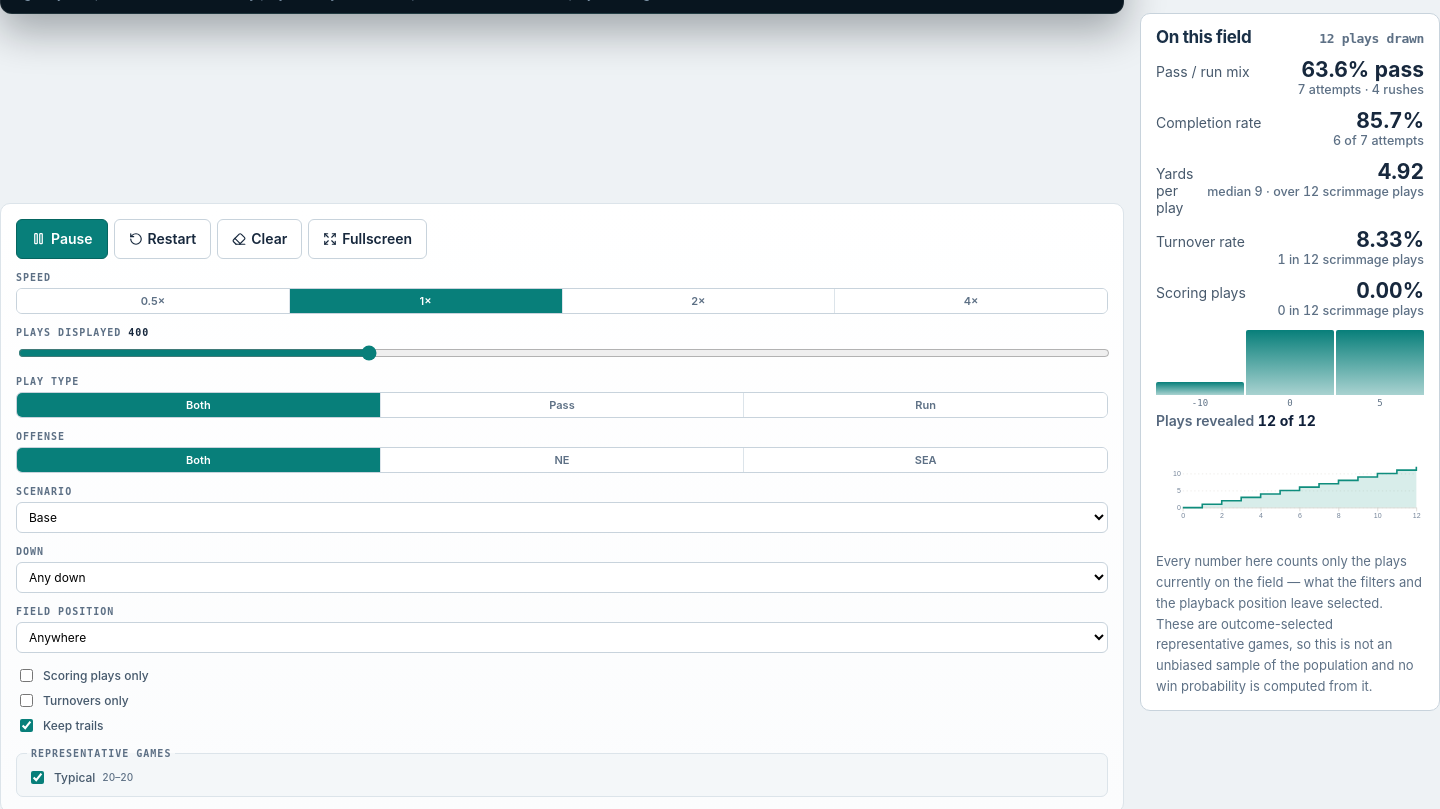
Test: SimulationPopulation › moves its statistics when the play-type filter changes
(page scrolled)
Expected: the element named "0246810120510" shows "6 of 7 attempts", [1140,13,1439,711]
Click the button "Run".
click(926, 405)  # box [744,393,1107,417]
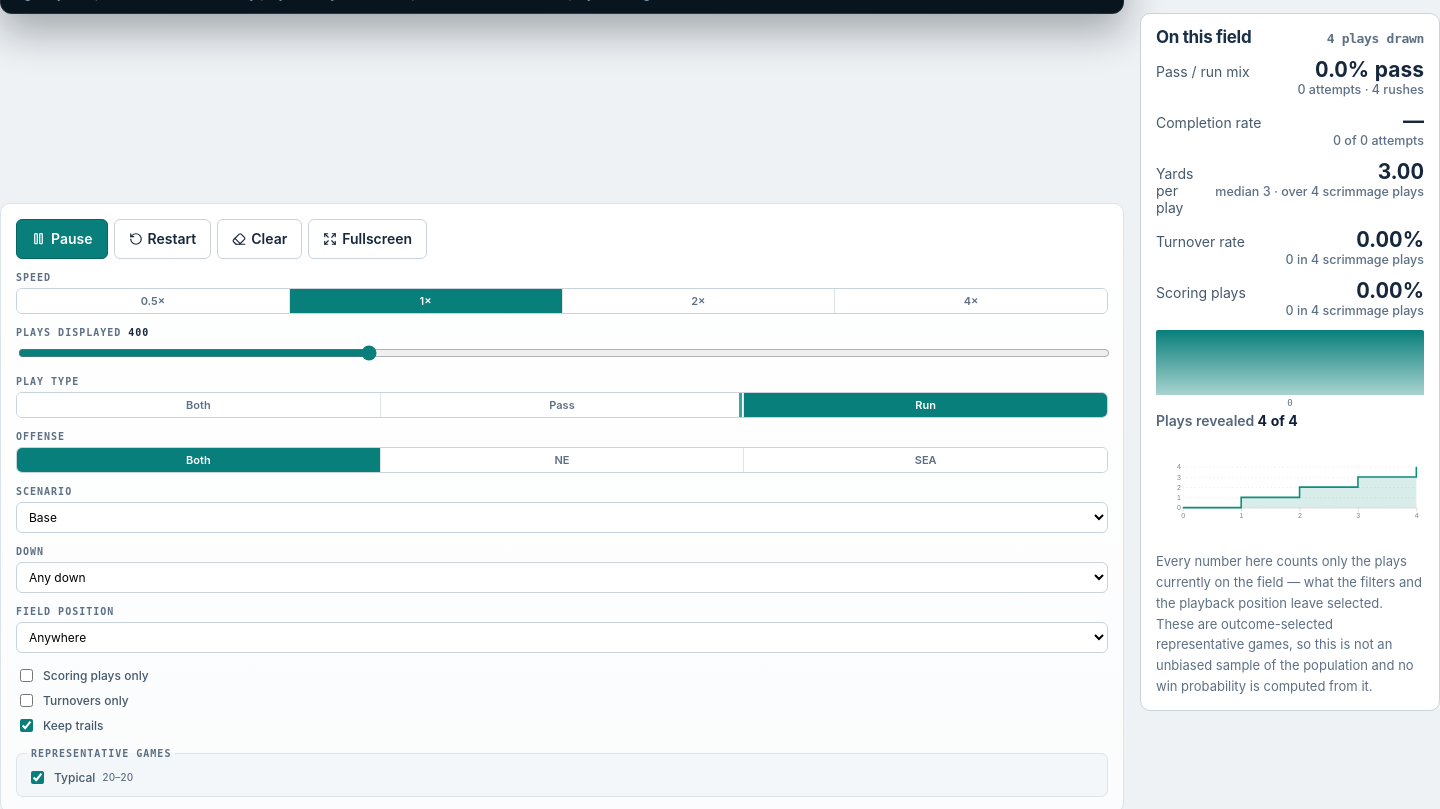
Expected: the element named "0123401234" shows "0 of 0 attempts", [1140,13,1439,711]
Expected: the element named "0123401234" shows "0.0% pass", [1140,13,1439,711]
